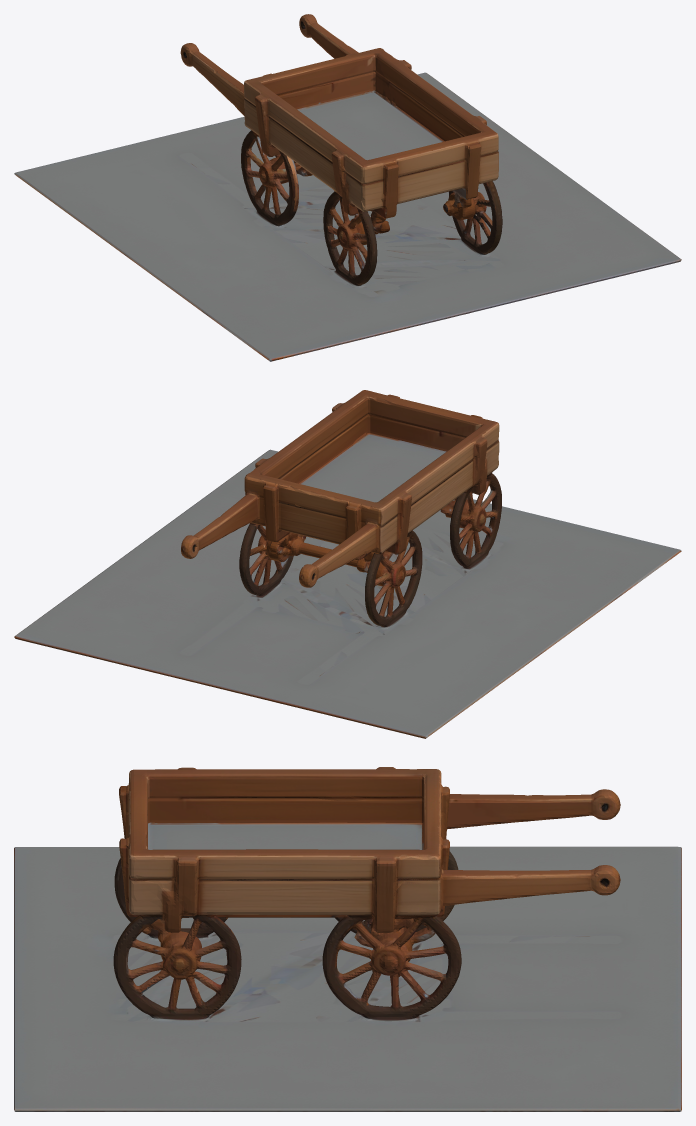
File: cart.glb
3 renders of one model, top to bottom at view 1: azimuth 30°, elevation 25°; view 2: azimuth 150°, elevation 25°; view 3: azimuth 270°, elevation 25°, orthographic. The views are drawn at different scales.
Visible parts, largest first — view 1: textured_mesh.obj; view 2: textured_mesh.obj; view 3: textured_mesh.obj.
Part boxes in pixels (<box>): textured_mesh.obj: <box>14,14,681,361</box>; textured_mesh.obj: <box>14,390,681,738</box>; textured_mesh.obj: <box>14,767,681,1111</box>.
Bounding box in the file's own units: 1.85 × 0.5568 × 1.99.
Materials: 1 (1 with a texture image).
